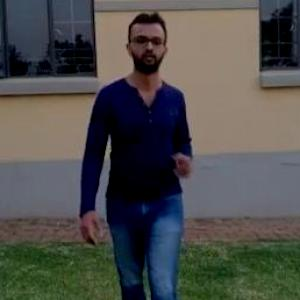follow: (73, 6, 192, 299)
